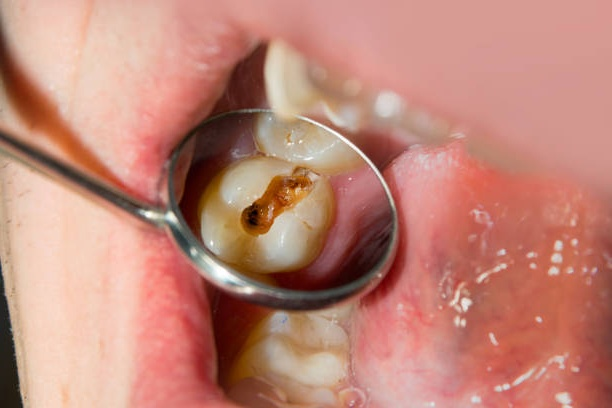Caries: (241, 166, 321, 241)
